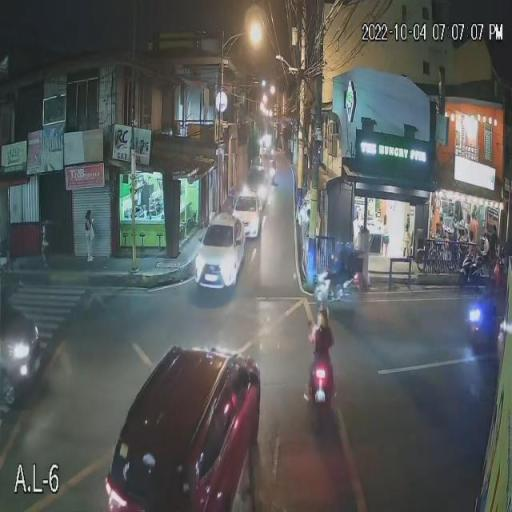helmet: (315, 302, 333, 327)
motorcycle: (302, 341, 337, 408)
rider: (312, 295, 335, 361)
